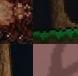spider: (0, 0, 33, 44)
tree: (33, 0, 78, 44)
